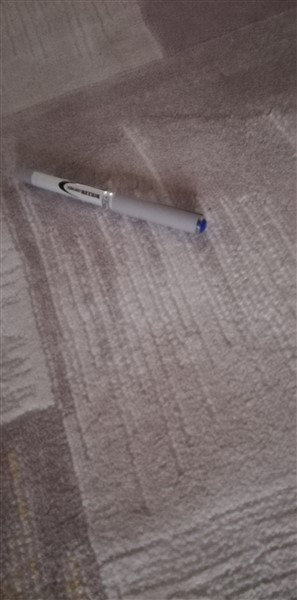pilot kalem: (16, 165, 213, 244)
